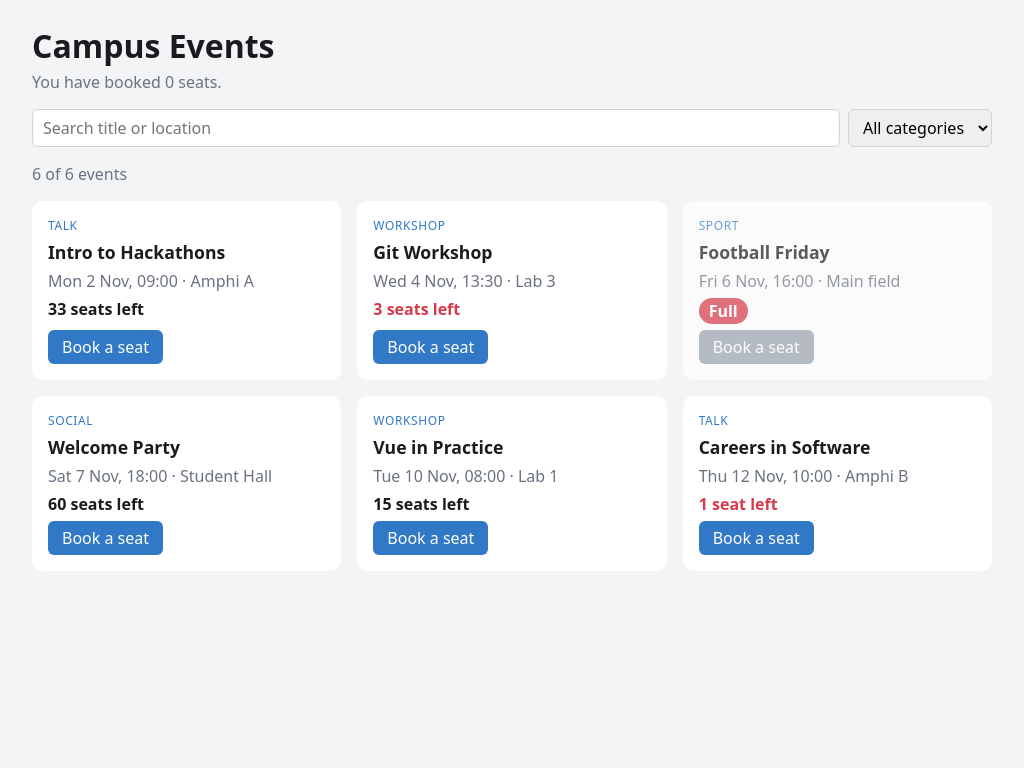
Scenario: App › booking a seat updates the card and the booking count
The width and height of the screenshot is (1024, 768).
Click the button "Book a seat" below "Wed 4 Nov, 13:30 · Lab 3": (431, 347) [373,330,488,364]
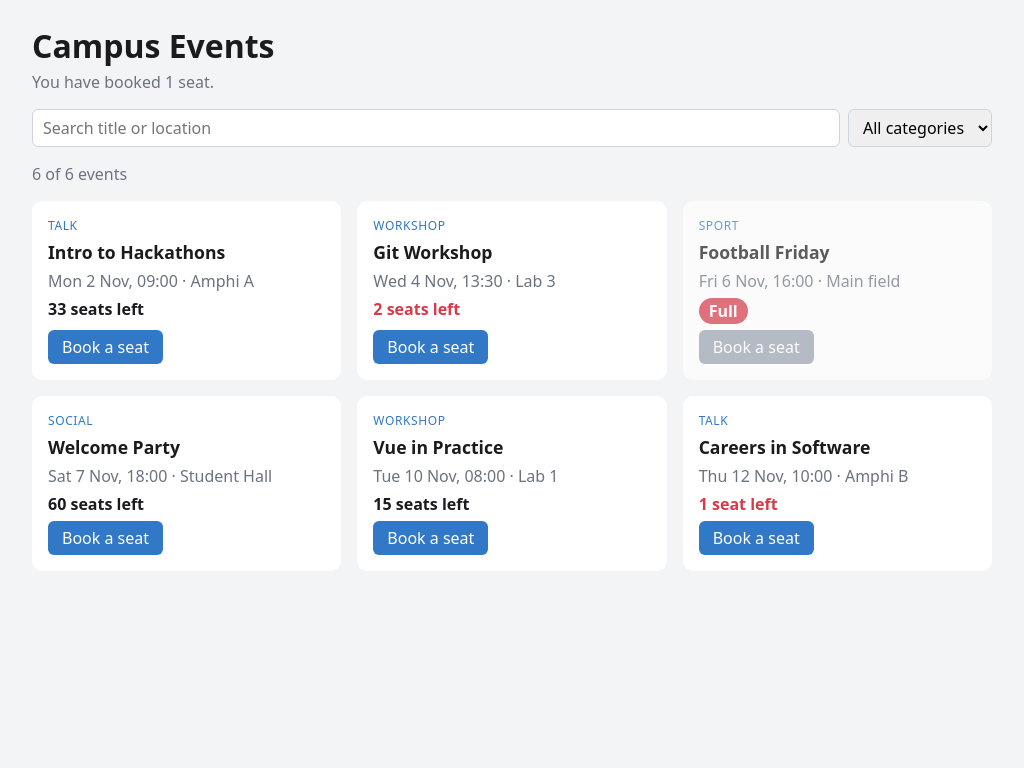
Expected: the text "2 seats left" is shown, [373,298,460,320]
Expected: the text "You have booked 1 seat." is shown, [32,71,214,93]
